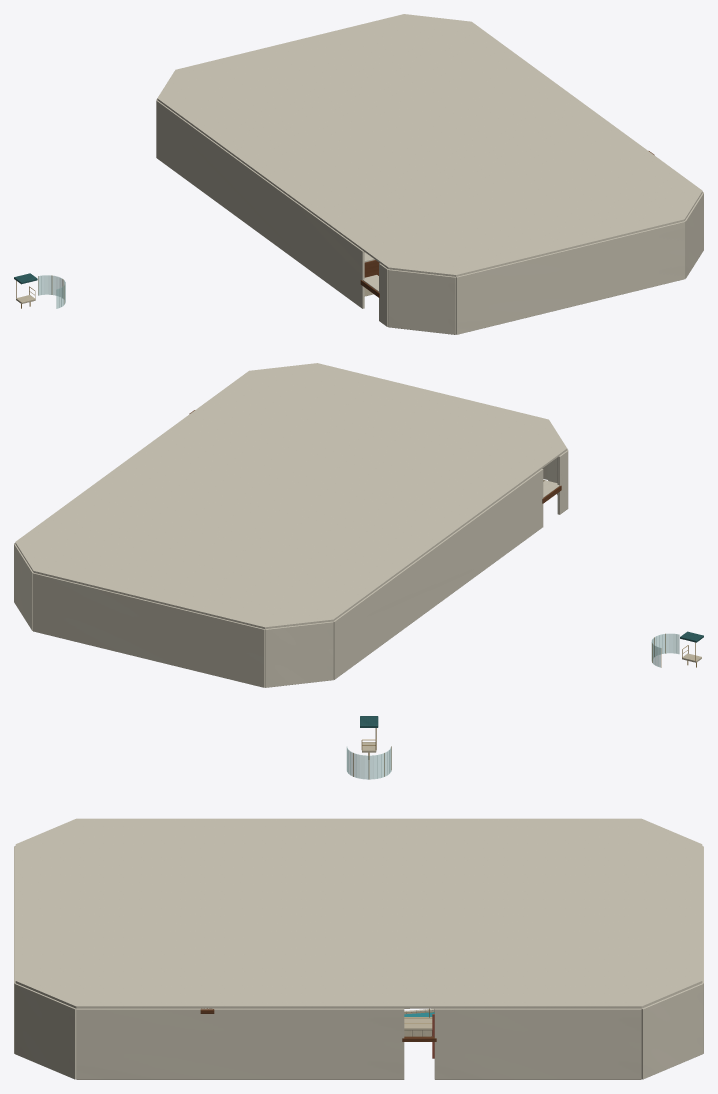
Rendered from AQD_architecture.glb.
3 views of the same model, one above another, from view 1: azimuth 30°, elevation 25°; view 2: azimuth 150°, elevation 25°; view 3: azimuth 270°, elevation 25° (orthographic). The views are drawn at different scales.
Visible parts, largest first — view 1: AQD__opaque_roof, AQD__enclosure_5, AQD__west_threshold_north, AQD__enclosure_6, AQD__enclosure_4, AQD__west_threshold_south; view 2: AQD__opaque_roof, AQD__enclosure_1, AQD__west_threshold_north, AQD__enclosure_0, AQD__enclosure_2, AQD__west_threshold_south; view 3: AQD__opaque_roof, AQD__east_boundary_south, AQD__east_boundary_north, AQD__enclosure_2, AQD__enclosure_4.
Part boxes in pixels (x1,y1,x2,y2): AQD__opaque_roof: (157, 14, 702, 276); AQD__enclosure_5: (456, 221, 685, 334); AQD__west_threshold_north: (156, 100, 364, 308); AQD__enclosure_6: (388, 269, 455, 334); AQD__enclosure_4: (685, 192, 703, 278); AQD__west_threshold_south: (379, 263, 388, 326); AQD__opaque_roof: (15, 363, 567, 629); AQD__enclosure_1: (33, 573, 264, 687); AQD__west_threshold_north: (333, 469, 543, 679); AQD__enclosure_0: (265, 621, 333, 687); AQD__enclosure_2: (14, 544, 33, 630); AQD__west_threshold_south: (557, 450, 568, 514); AQD__opaque_roof: (15, 818, 702, 1008); AQD__east_boundary_south: (76, 1008, 404, 1079); AQD__east_boundary_north: (434, 1008, 641, 1079); AQD__enclosure_2: (641, 983, 703, 1079); AQD__enclosure_4: (14, 983, 76, 1079).
Size of the model in its own units: 79.52 by 9.15 by 68.32.
Materials: 11 (8 with a texture image).
